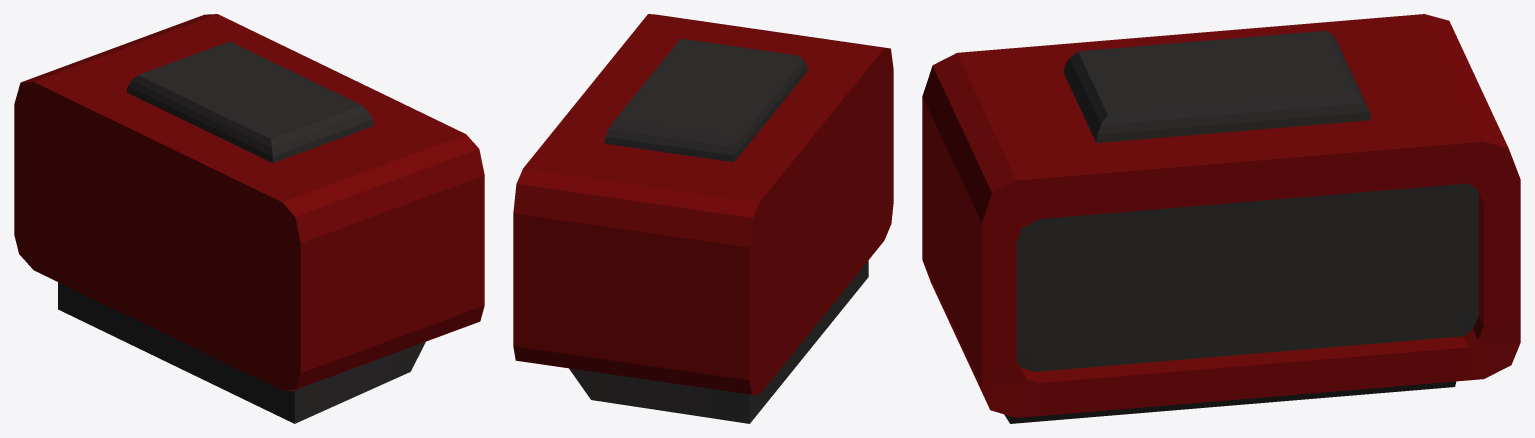
Rendered from hasi.fbx.
3 views of the same model, side by side, from view 1: azimuth 30°, elevation 25°; view 2: azimuth 150°, elevation 25°; view 3: azimuth 270°, elevation 25° (orthographic). The views are drawn at different scales.
Parts seen in each view (by area): view 1: hasi; view 2: hasi; view 3: hasi.
Part boxes in pixels (left/top/right/bottom): hasi: left=14, top=14, right=484, bottom=423; hasi: left=513, top=14, right=893, bottom=423; hasi: left=922, top=14, right=1520, bottom=423.
Size of the model in its own units: 6.1 by 5.1 by 8.94.
